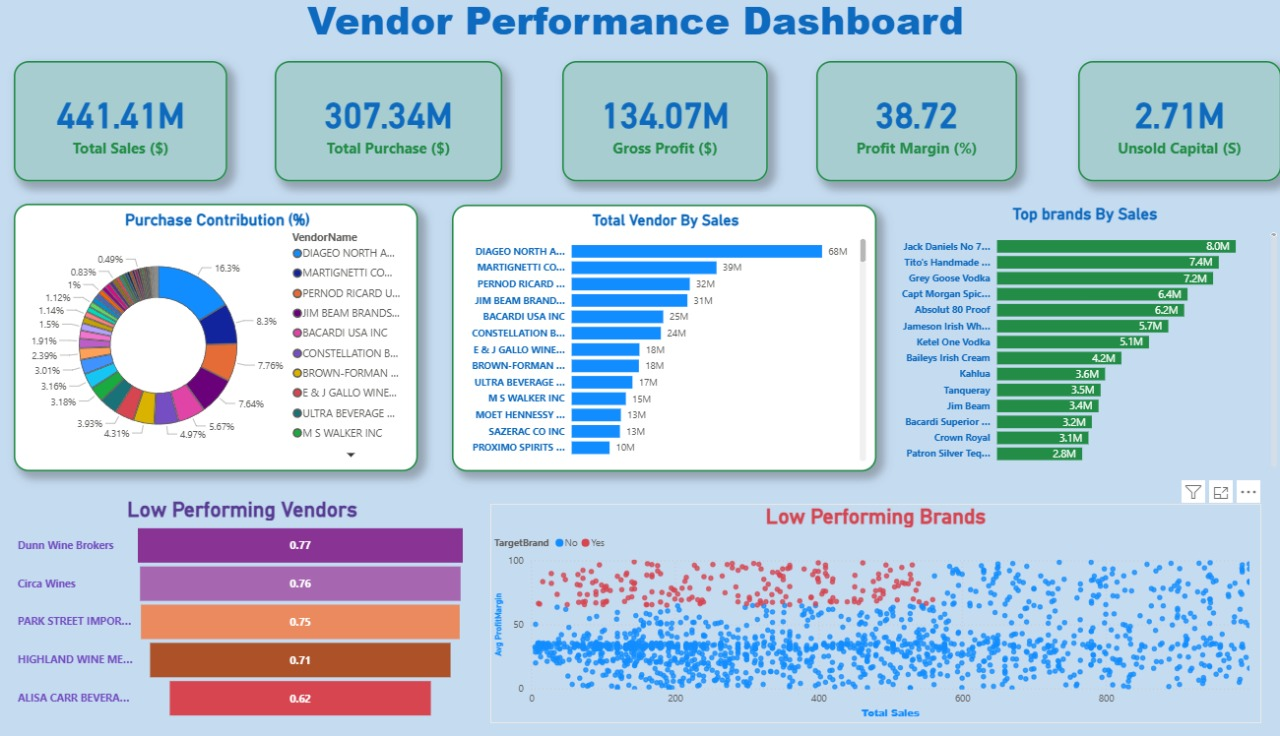

This screenshot's page, from the dashboard's own definition file:
{"tool":"powerbi","page":{"name":"Page 1","canvas":[1650,950],"ordinal":0},"visuals":[{"type":"card","fields":{"Values":["vendor_sales_summary.Total Sales ($)"]},"box":[23.8,86.2,271.2,152.5],"z":0},{"type":"card","fields":{"Values":["vendor_sales_summary.Total Purchase ($)"]},"box":[355,86.2,288.8,152.5],"z":1000},{"type":"card","fields":{"Values":["vendor_sales_summary.Gross Profit ($)"]},"box":[720,86.2,261.2,152.5],"z":2000},{"type":"card","fields":{"Values":["vendor_sales_summary.Profit Margin (%)"]},"box":[1042.5,86.2,255,152.5],"z":3000},{"type":"card","fields":{"Values":["Sum(vendor_sales_summary.Unsold Capital (S))"]},"box":[1375,86.2,257.5,152.5],"z":4000},{"type":"donutChart","title":"Purchase Contribution (%)","fields":{"Y":["PurchaseContribution.Purchase Contriution (%)"],"Category":["PurchaseContribution.VendorName"]},"box":[23.8,267.5,512.5,340],"z":5000},{"type":"clusteredBarChart","title":"Total Vendor By Sales","fields":{"Y":["Sum(vendor_sales_summary.TotalSalesDollars)"],"Category":["vendor_sales_summary.VendorName"]},"box":[571.2,268.8,538.8,338.8],"z":6000},{"type":"textbox","title":"Vendor Performance Dashboard","box":[391.2,0,867.5,111.2],"z":7000},{"type":"clusteredBarChart","title":"Top brands By Sales","fields":{"Category":["vendor_sales_summary.Description"],"Y":["vendor_sales_summary.Total Sales ($)"]},"box":[1135,268.8,497.5,338.8],"z":8000},{"type":"funnel","title":"Low Performing Vendors","fields":{"Category":["LowTurnoverVendor.VendorName"],"Y":["Avg(LowTurnoverVendor.AvgStockTurnOver)"]},"box":[23.8,640,580,287.5],"z":9000},{"type":"scatterChart","title":"Low Performing Brands","fields":{"Category":["BrandPerformance.Description"],"X":["Sum(BrandPerformance.TotalSales)"],"Y":["Avg(BrandPerformance.AvgProfitMargin)"],"Series":["BrandPerformance.TargetBrand"]},"box":[628.8,648.8,978.8,278.8],"z":10000}]}

Visuals, with their boxes in screenshot pixels (x1, y1, x2, y2), scaled from the page's 1650x950 canvas onto the 1280x736 screenshot:
card - vendor_sales_summary.Total Sales ($): [left=18, top=67, right=229, bottom=185]
card - vendor_sales_summary.Total Purchase ($): [left=275, top=67, right=499, bottom=185]
card - vendor_sales_summary.Gross Profit ($): [left=559, top=67, right=761, bottom=185]
card - vendor_sales_summary.Profit Margin (%): [left=809, top=67, right=1007, bottom=185]
card - Sum(vendor_sales_summary.Unsold Capital (S)): [left=1067, top=67, right=1266, bottom=185]
"Purchase Contribution (%)" donutChart: [left=18, top=207, right=416, bottom=471]
"Total Vendor By Sales" clusteredBarChart: [left=443, top=208, right=861, bottom=471]
"Vendor Performance Dashboard" textbox: [left=303, top=0, right=976, bottom=86]
"Top brands By Sales" clusteredBarChart: [left=880, top=208, right=1266, bottom=471]
"Low Performing Vendors" funnel: [left=18, top=496, right=468, bottom=719]
"Low Performing Brands" scatterChart: [left=488, top=503, right=1247, bottom=719]
